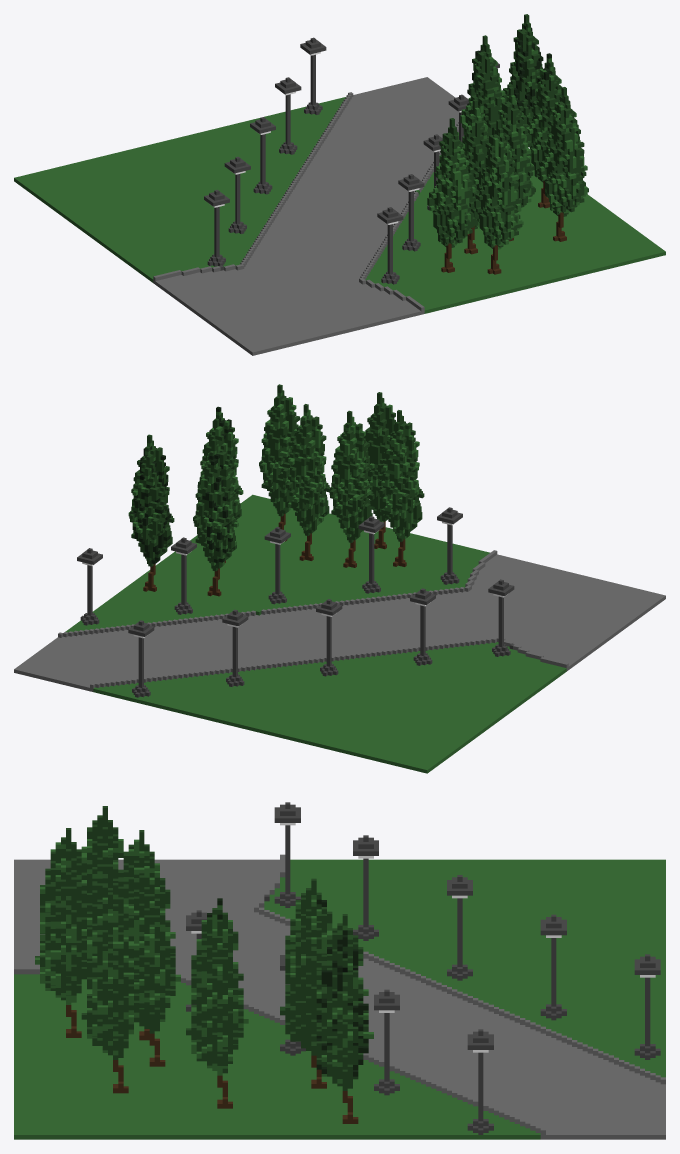
Rendered from haikei.obj.
3 renders of one model, top to bottom at view 1: azimuth 30°, elevation 25°; view 2: azimuth 150°, elevation 25°; view 3: azimuth 270°, elevation 25°, orthographic. The views are drawn at different scales.
Bounding box in the file's own units: 12.5 × 4.5 × 12.5.
1 material, 1 textured.
